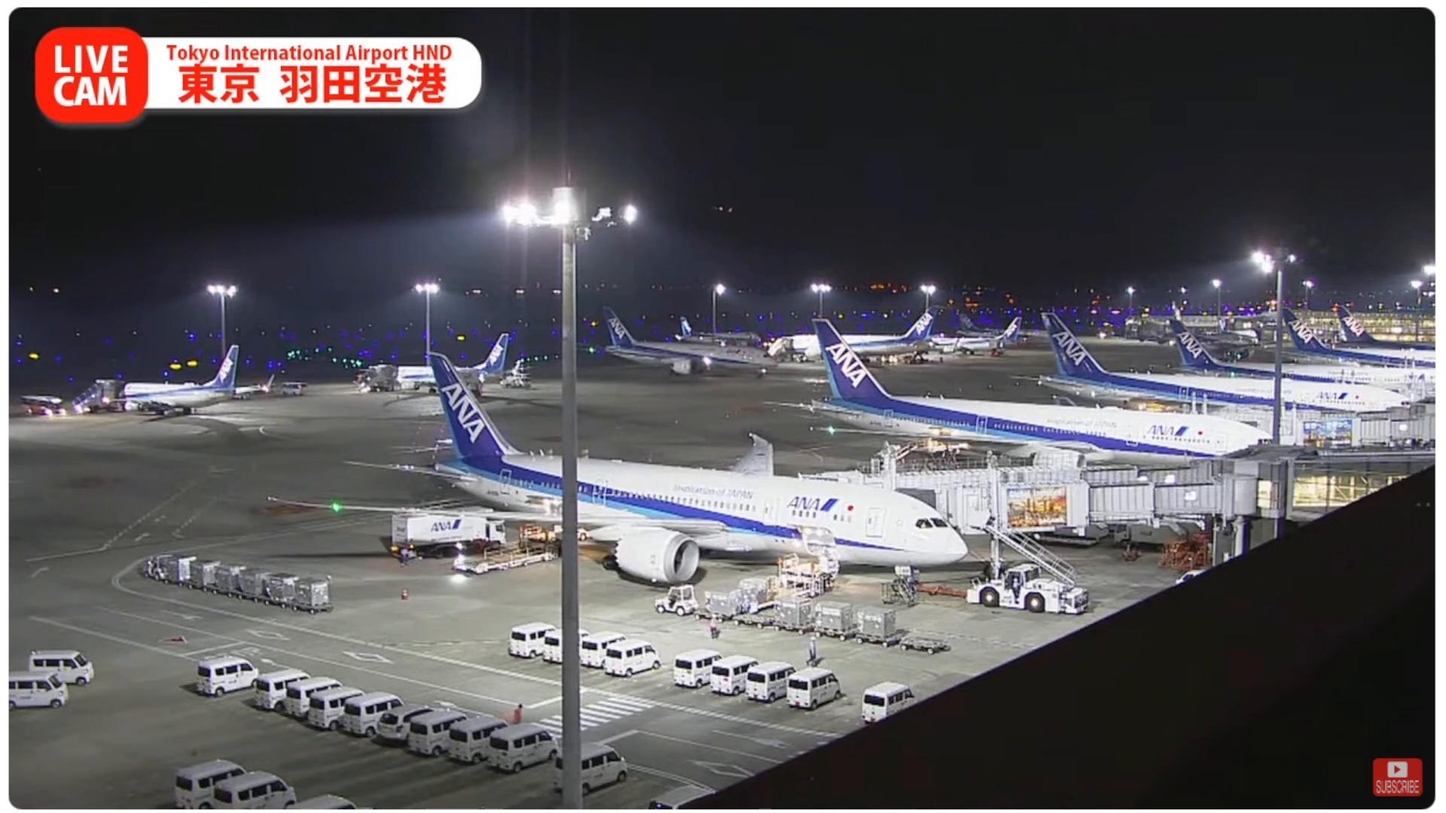APS: (971, 563, 1097, 616)
Aerobridge: (895, 475, 1256, 534), (800, 456, 1224, 487)
Airplane: (269, 351, 970, 589)
Catering: (390, 505, 506, 559)
Dolly: (693, 585, 950, 654), (166, 552, 332, 611)
JCPL: (449, 524, 559, 573), (745, 560, 837, 598)
Tractor: (653, 585, 695, 615), (144, 553, 169, 581)
Window: (1290, 455, 1437, 521)
